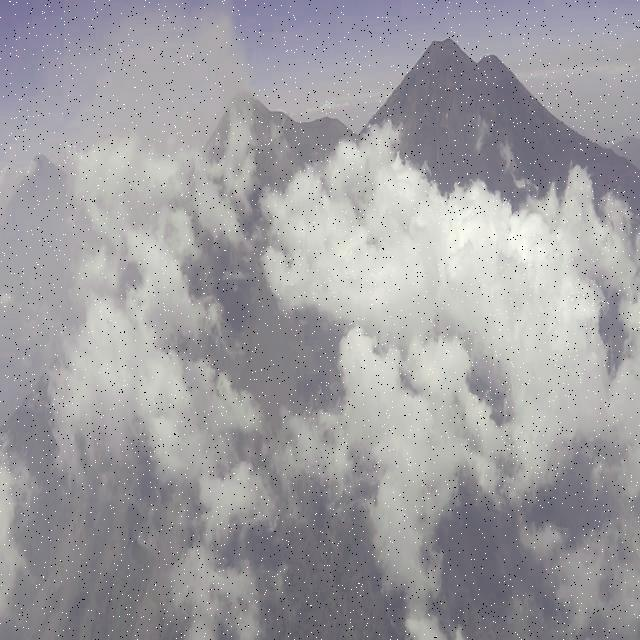Summit: (209, 78, 292, 136)
